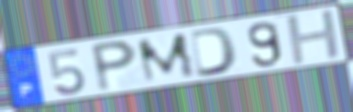5: (46, 46, 88, 98)
9: (246, 21, 284, 69)
D: (187, 25, 240, 79)
H: (283, 7, 345, 67)
M: (134, 30, 200, 86)
P: (88, 39, 140, 95)
